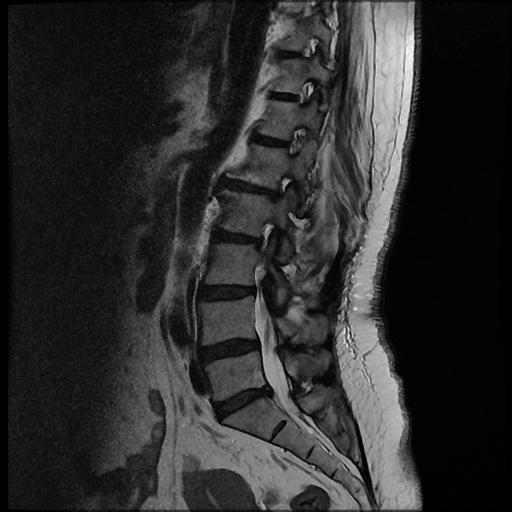LFS0: (246, 214, 283, 256)
